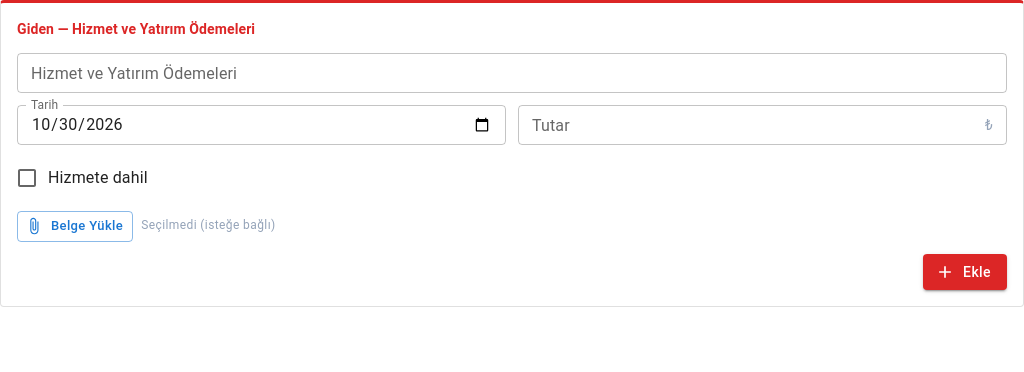
CariHareketFormu › boş gönderimde okunur hata verir, kaydetmez
Step 1. Click the button "Ekle" → (965, 272), box top-left (923, 254), bottom-right (1007, 290)
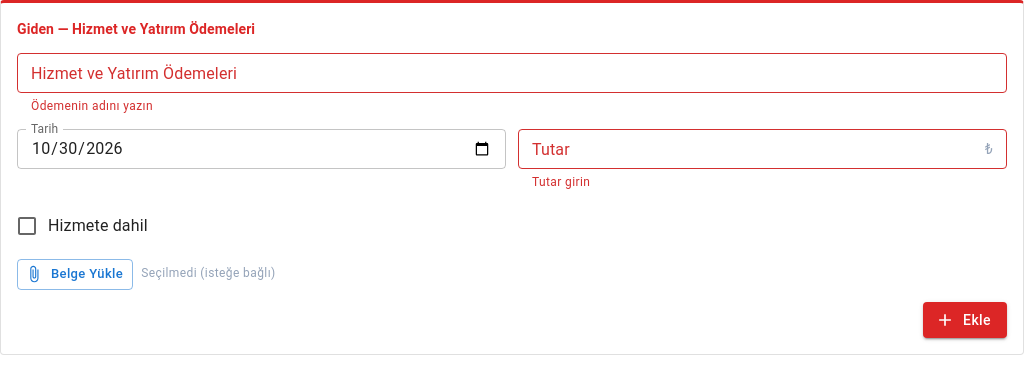
Expected: the text "Ödemenin adını yazın" is shown, top-left (31, 99), bottom-right (153, 113)
Expected: the text "Tutar girin" is shown, top-left (532, 175), bottom-right (590, 189)
